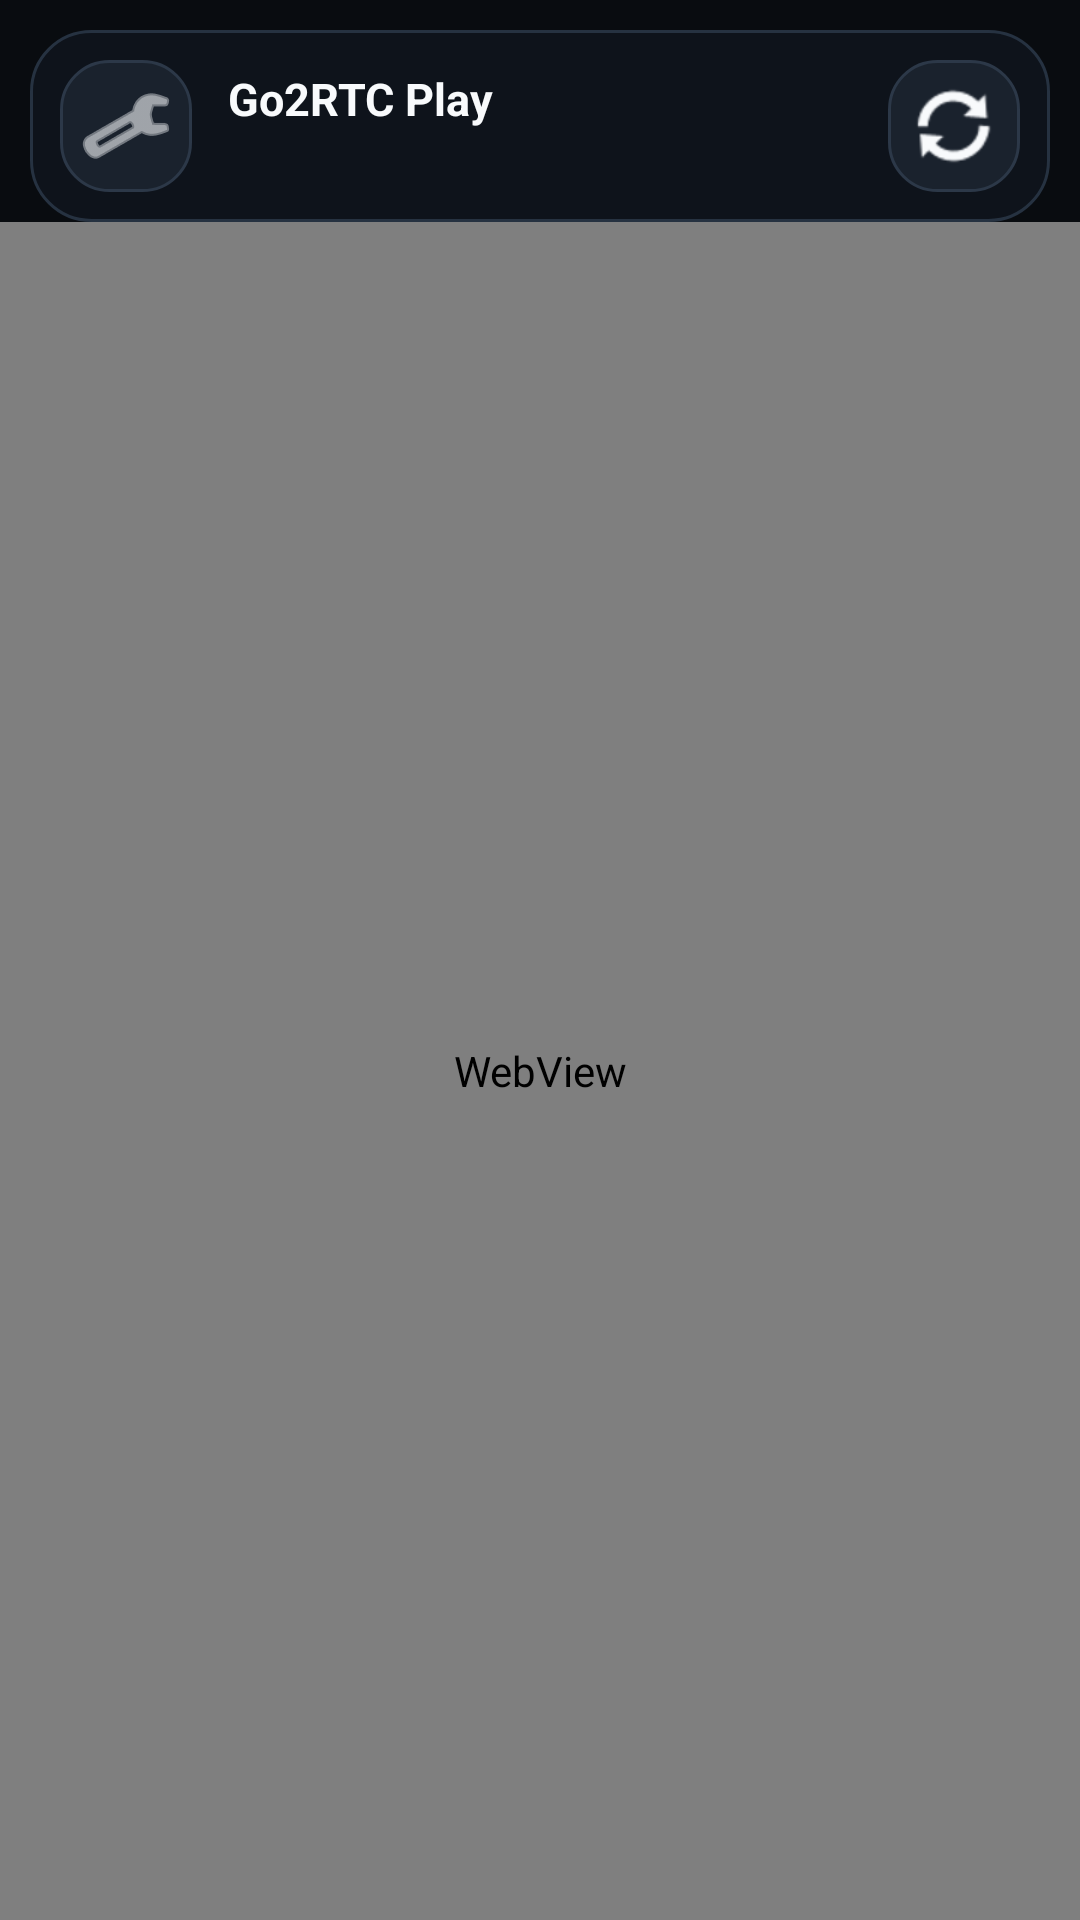

Icon click points for this 1080px x 1920px phone screenshot, format [x,y]:
Refresh: [954,126]
Settings: [126,126]
